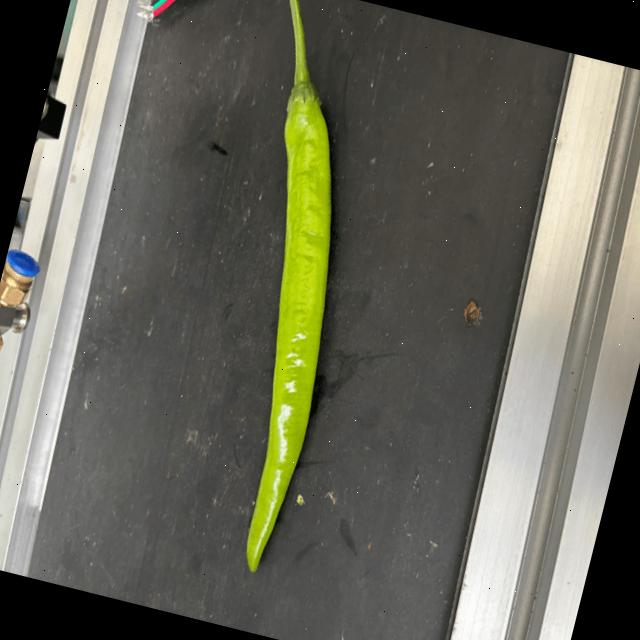chili: (244, 78, 331, 577)
